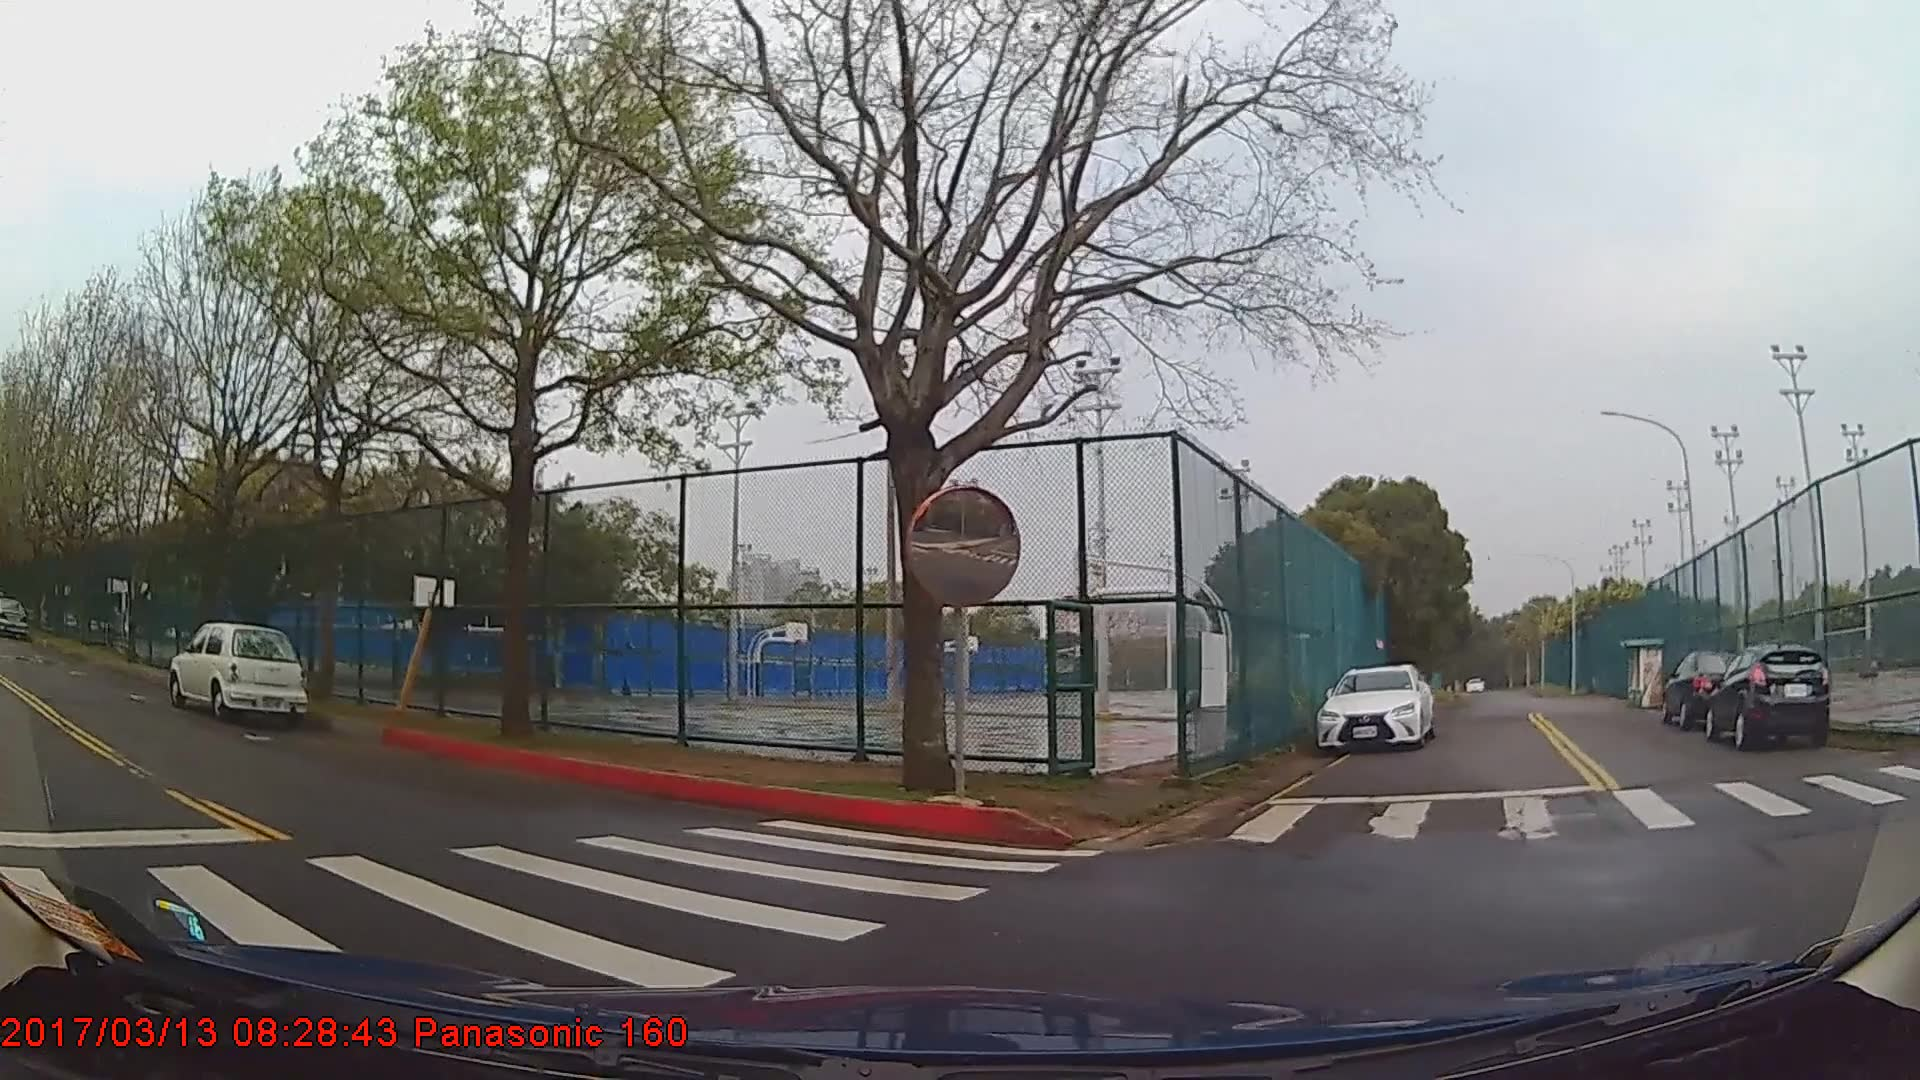vehicle: (165, 624, 311, 724), (1702, 646, 1829, 750), (1315, 662, 1436, 753), (1660, 646, 1753, 727), (0, 597, 32, 640)
